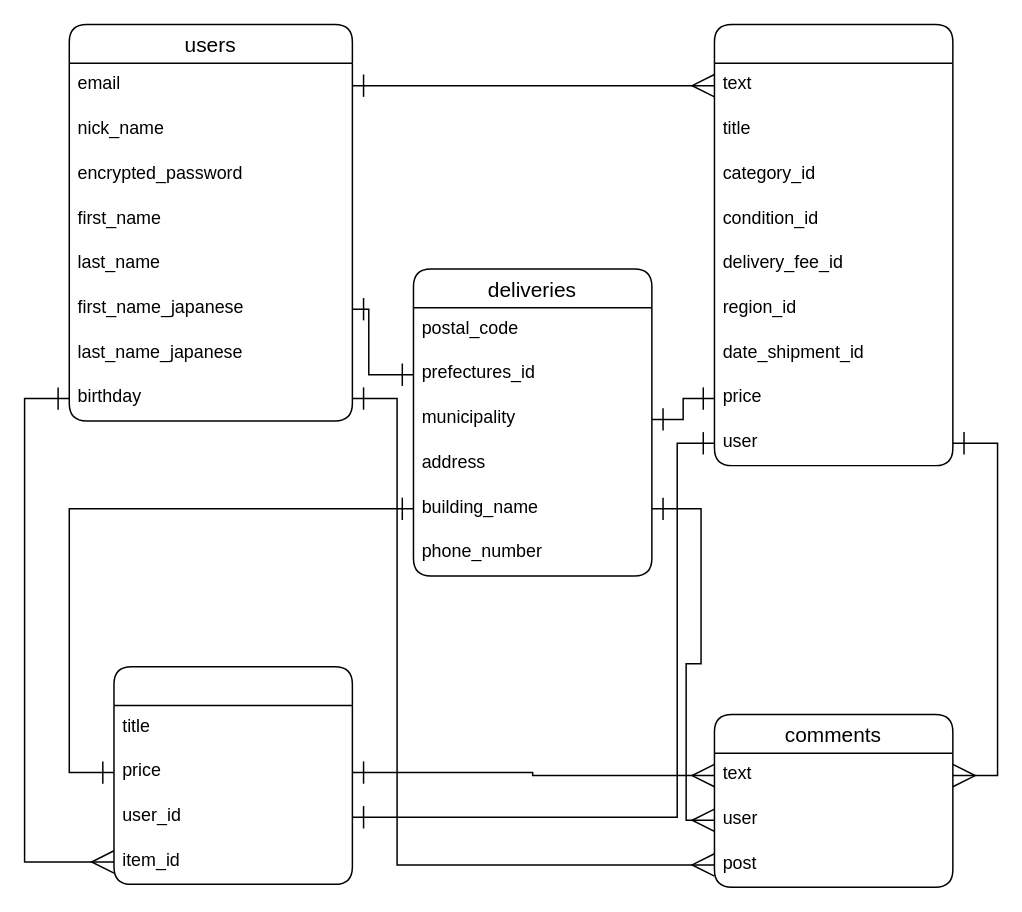
The diagram is 1022 pixels wide and 912 high, and some of its shapes have lost their labels. Each missing label, with the box of its shape:
items: (713, 23, 953, 466)
purchases: (112, 665, 352, 884)
